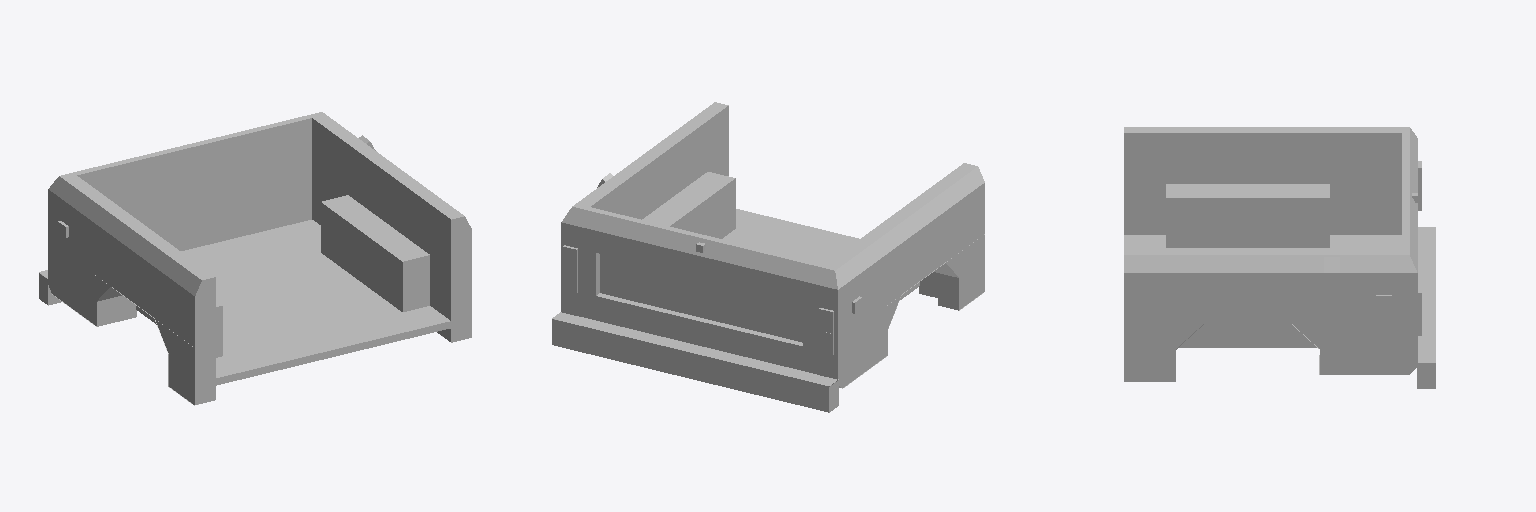
Rendered from scoutbedpickup.obj.
The picture shows the model from 3 angles: view 1: azimuth 30°, elevation 25°; view 2: azimuth 150°, elevation 25°; view 3: azimuth 270°, elevation 25°; orthographic projection.
Visible parts, largest first — view 1: cube, $assdoor, #translucent_mudAcc_pickup; view 2: #translucent_mudAcc_pickup, cube, #$translucent_mudAcc_assdoor, $assdoor, &brakelights; view 3: cube, #translucent_mudAcc_pickup, $assdoor.
Part boxes in pixels (x1,y1,x2,y2): cube: (48, 112, 471, 404); $assdoor: (73, 115, 311, 250); #translucent_mudAcc_pickup: (39, 190, 442, 405); #translucent_mudAcc_pickup: (552, 183, 984, 412); cube: (561, 102, 984, 387); #$translucent_mudAcc_assdoor: (582, 228, 816, 371); $assdoor: (582, 207, 824, 346); &brakelights: (563, 245, 833, 333); cube: (1124, 127, 1417, 272); #translucent_mudAcc_pickup: (1124, 227, 1435, 388); $assdoor: (1402, 133, 1417, 261).
Bounding box in the file's own units: 2.19 × 0.9641 × 2.08.